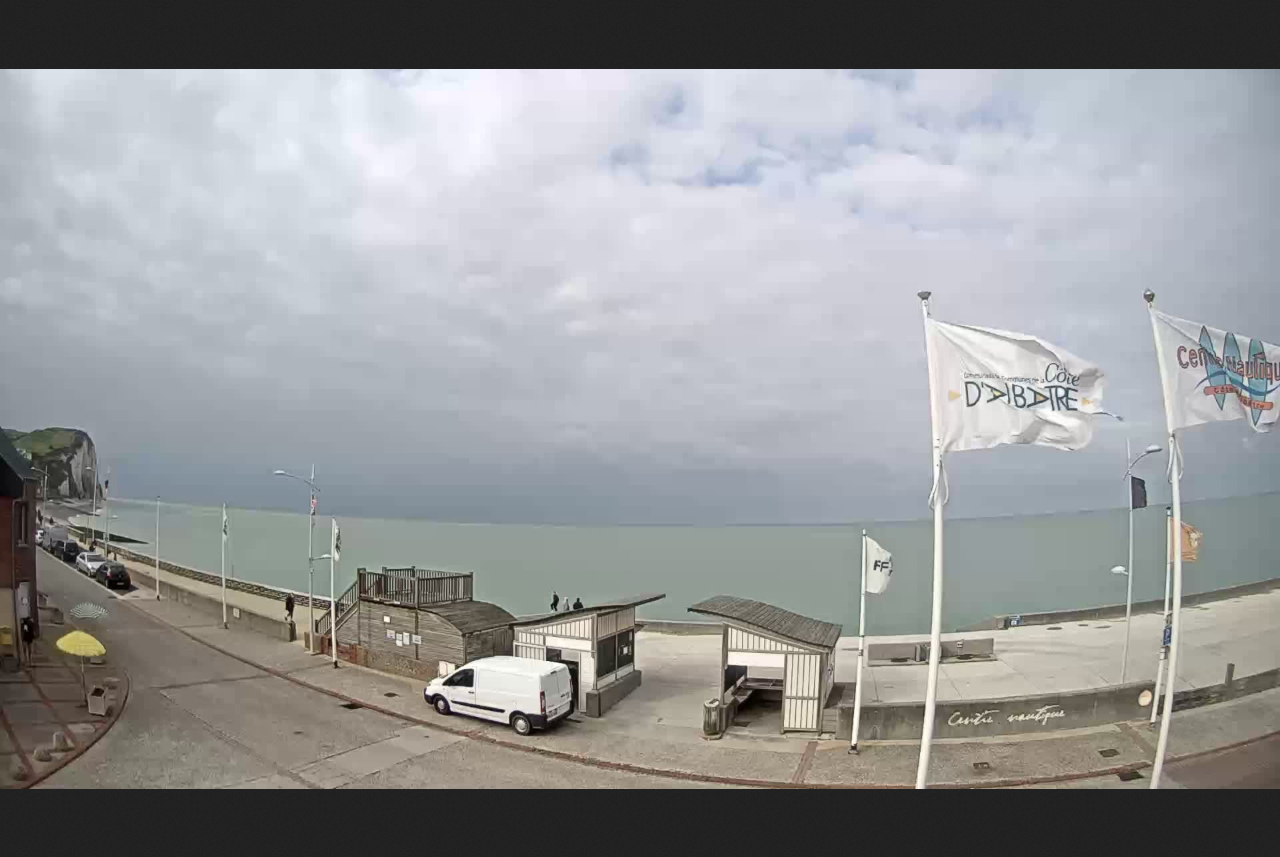yes: (916, 305, 1120, 458), (1143, 302, 1280, 432), (858, 533, 894, 601), (1163, 511, 1204, 566), (1125, 472, 1151, 512), (323, 513, 344, 558)
